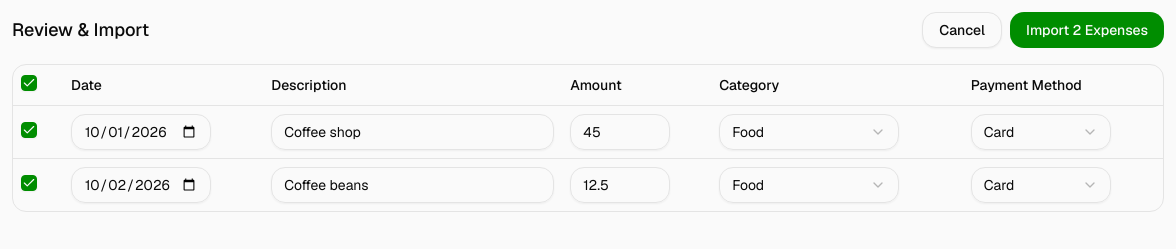
it: ReviewTable amounts › flags a cleared amount and disables import until it is fixed
Step 1. Clear the 1st number field → {"x": 620, "y": 132}, box [570,114,670,150]
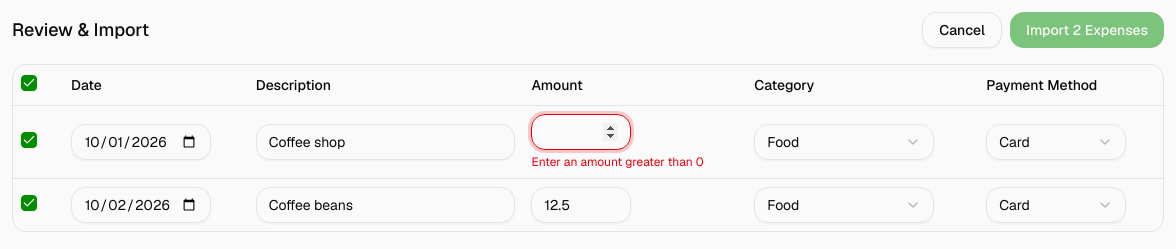
Expected: the text "Enter an amount greater than 0" is shown, [532,154,704,170]
Expected: the button "Import 2 Expenses" is disabled, [1010,12,1164,48]
Step 2. Type "20" into the 1st number field → {"x": 582, "y": 132}, box [532,114,632,150]
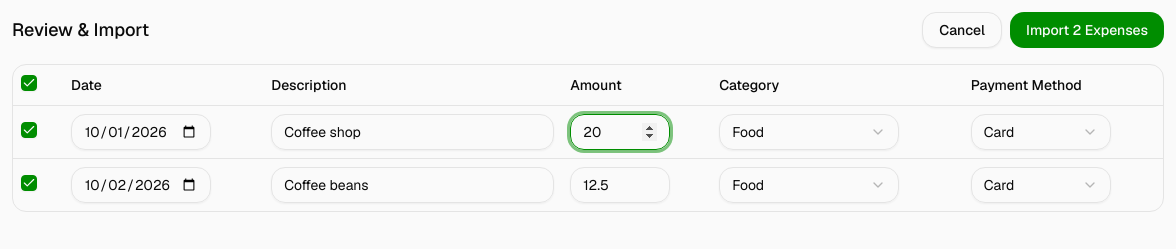
Expected: the button "Import 2 Expenses" is enabled, [1010,12,1164,48]
